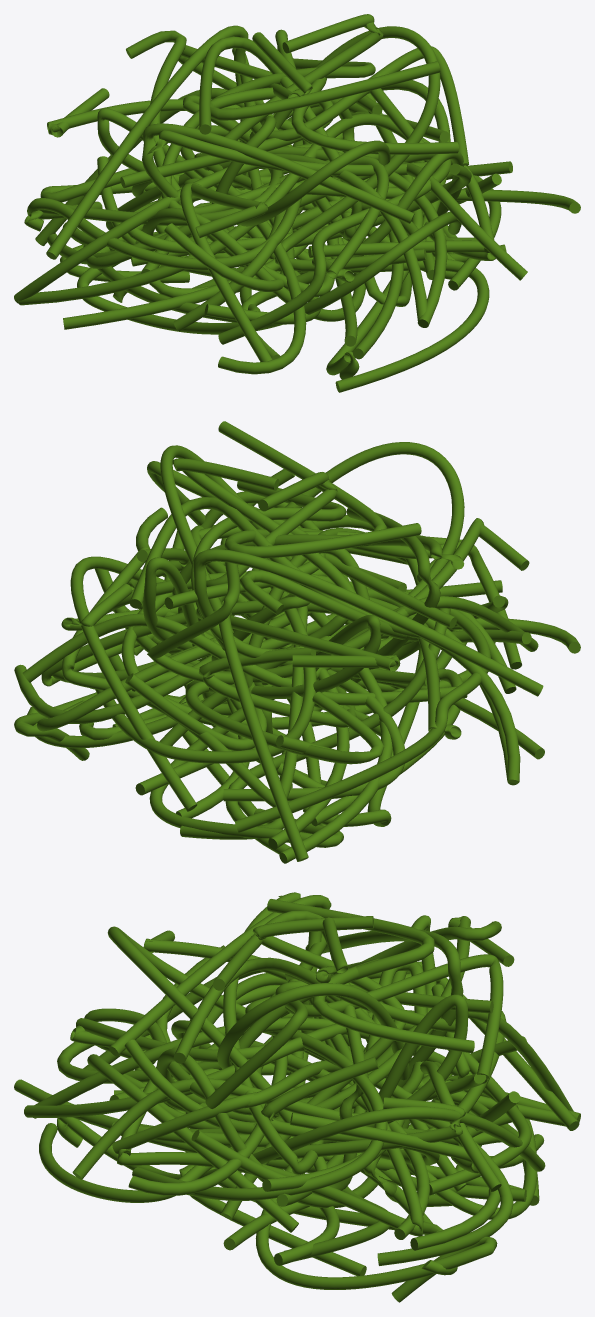
File: wakameFree.fbx
3 views of the same model, one above another, from view 1: azimuth 30°, elevation 25°; view 2: azimuth 150°, elevation 25°; view 3: azimuth 270°, elevation 25° (orthographic). The views are drawn at different scales.
Visible parts, largest first — view 1: NurbsPath.001; view 2: NurbsPath.001; view 3: NurbsPath.001.
Boxes of the visible parts, x1=… form: NurbsPath.001: x1=14, y1=14, x2=580, y2=392; NurbsPath.001: x1=14, y1=421, x2=580, y2=863; NurbsPath.001: x1=14, y1=892, x2=580, y2=1302.
Size of the model in its own units: 160 by 98.51 by 158.
